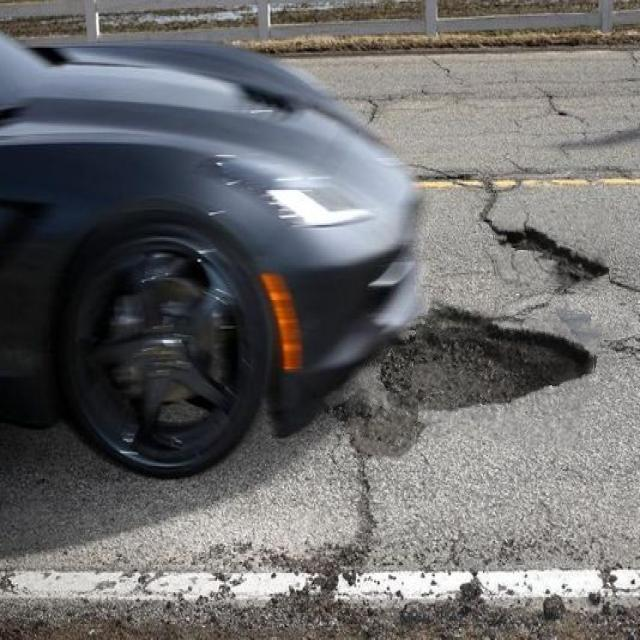Pothole: (412, 305, 597, 445), (492, 204, 609, 291), (345, 388, 418, 458)
